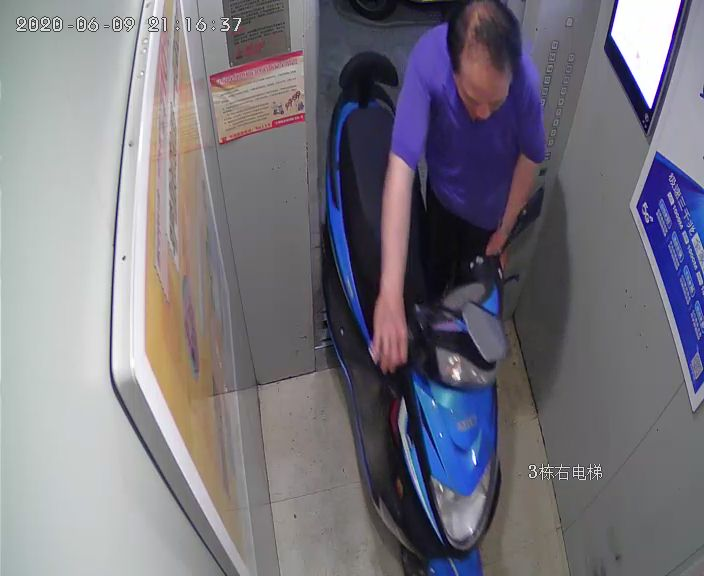Electric-bicycle: (321, 52, 514, 574)
